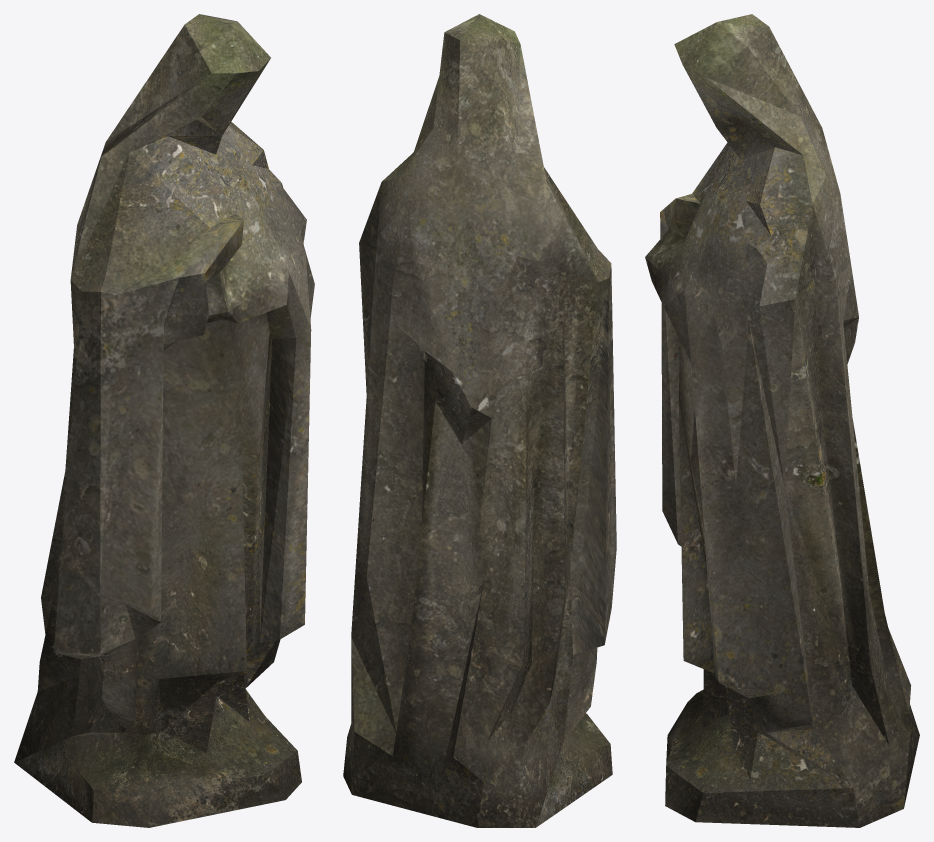
The model's file is Statue.fbx.
The picture shows the model from 3 angles, left to right: view 1: azimuth 30°, elevation 25°; view 2: azimuth 150°, elevation 25°; view 3: azimuth 270°, elevation 25°; orthographic projection. The views are drawn at different scales.
Visible parts, largest first — view 1: Statue; view 2: Statue; view 3: Statue.
Boxes of the visible parts, box(x1,y1,x2,y2) form: Statue: box(14, 14, 314, 827); Statue: box(343, 14, 616, 827); Statue: box(645, 14, 919, 827).
Size of the model in its own units: 94.95 by 276 by 89.24.
